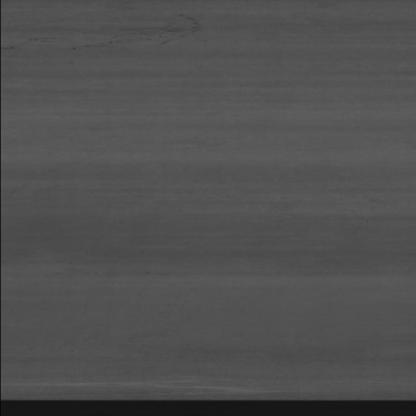water_spot: (66, 12, 206, 53)
